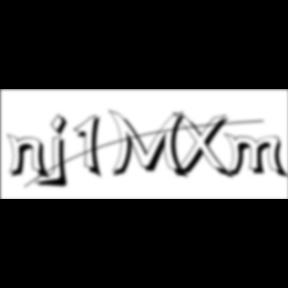1: (72, 114, 108, 182)
M: (108, 108, 192, 181)
X: (172, 112, 236, 182)
j: (48, 113, 74, 191)
n: (7, 132, 54, 181)
